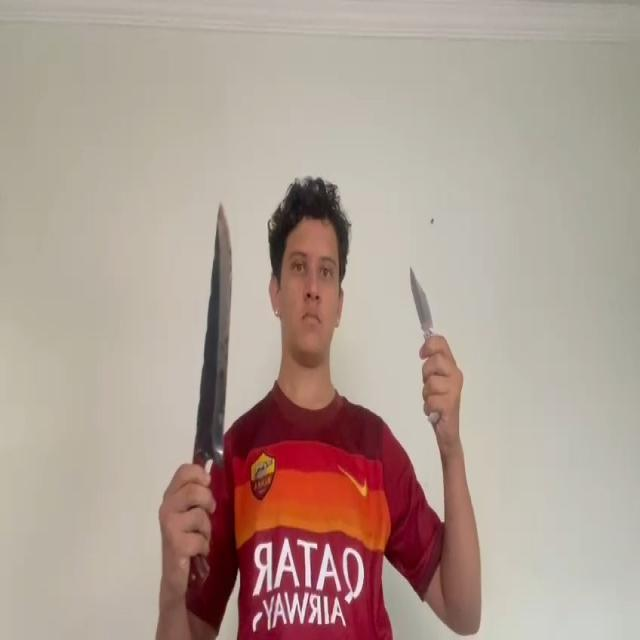knife: (192, 202, 235, 452), (408, 266, 434, 328)
